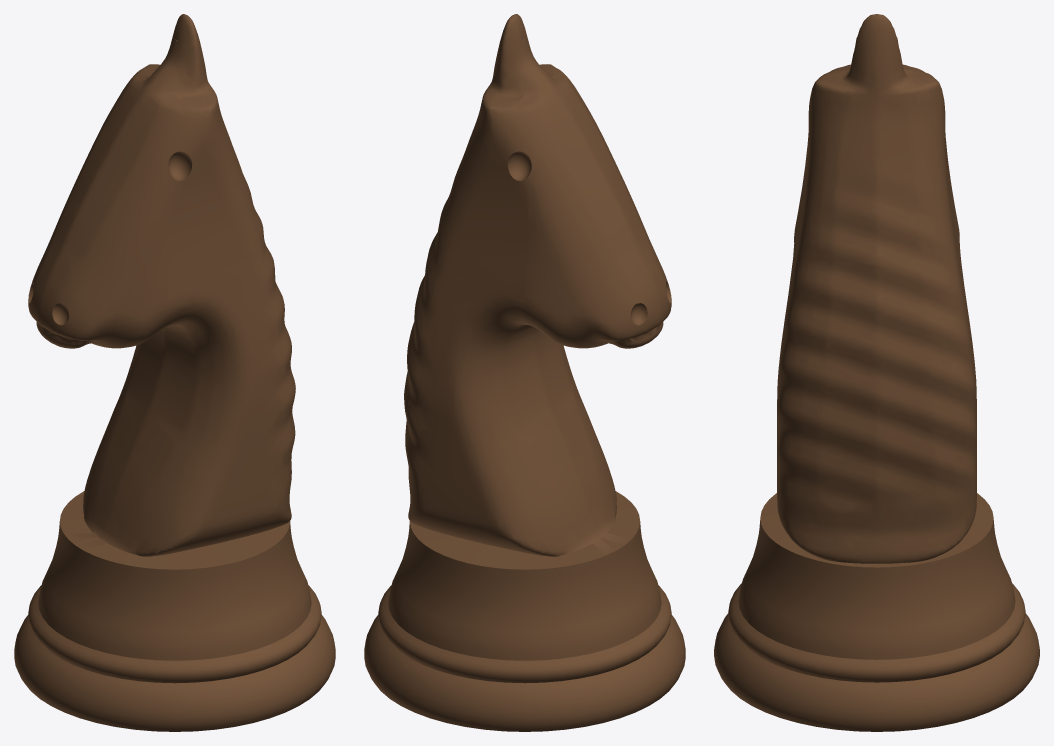
The model's file is black-knight.glb.
3 views of the same model, side by side, from view 1: azimuth 30°, elevation 25°; view 2: azimuth 150°, elevation 25°; view 3: azimuth 270°, elevation 25° (orthographic).
Visible parts, largest first — view 1: black-knight.001; view 2: black-knight.001; view 3: black-knight.001.
Boxes of the visible parts, x1=… form: black-knight.001: x1=14, y1=14, x2=335, y2=731; black-knight.001: x1=364, y1=14, x2=685, y2=731; black-knight.001: x1=714, y1=14, x2=1039, y2=731.
Bounding box in the file's own units: 0.5828 × 1.3 × 0.5828.
